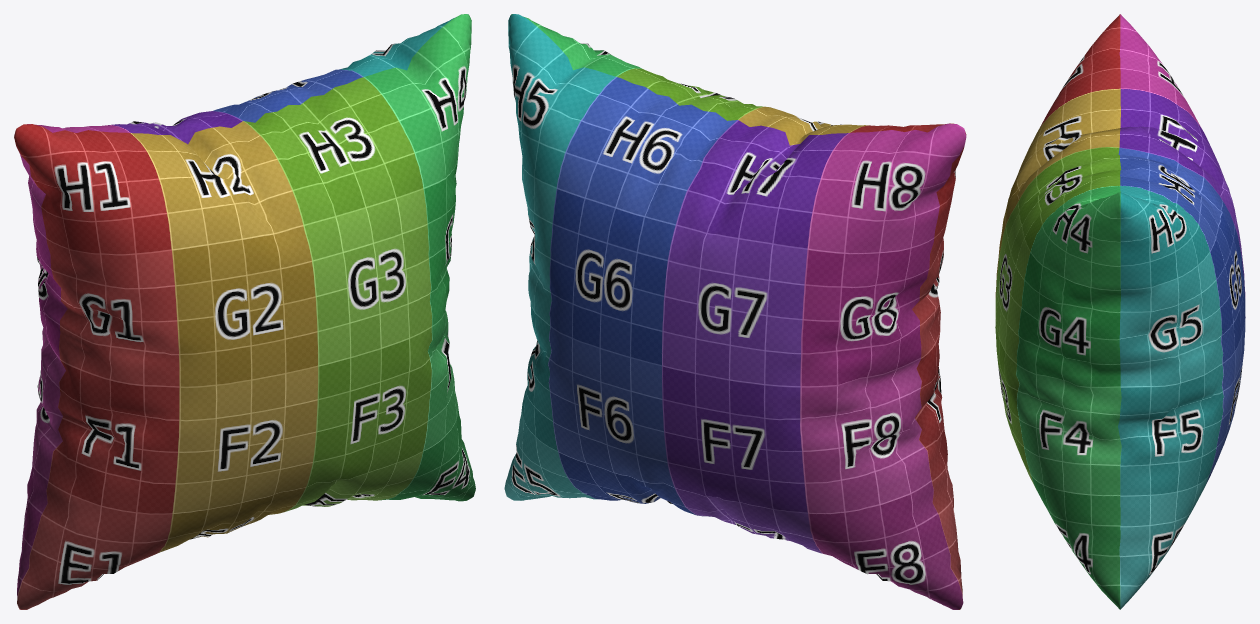
The model's file is pillow_uv.glb.
The picture shows the model from 3 angles, left to right: view 1: azimuth 30°, elevation 25°; view 2: azimuth 150°, elevation 25°; view 3: azimuth 270°, elevation 25°; orthographic projection. The views are drawn at different scales.
Parts seen in each view (by area): view 1: Pillow_Material_0; view 2: Pillow_Material_0; view 3: Pillow_Material_0.
Part boxes in pixels (x1,y1,x2,y2): Pillow_Material_0: [14, 14, 475, 609]; Pillow_Material_0: [504, 14, 966, 609]; Pillow_Material_0: [995, 14, 1245, 609].
Bounding box in the file's own units: 62.29 × 63.09 × 34.43.
Materials: 1 (1 with a texture image).
